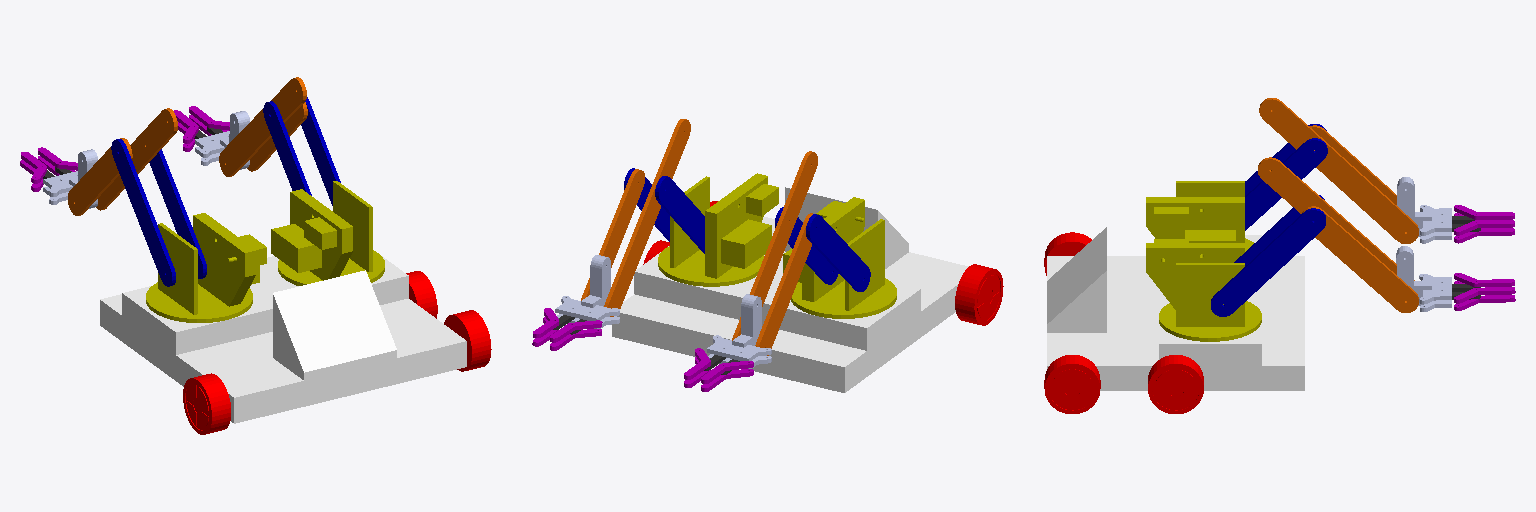
--- What the picture shows (computed from the rendered views, not written in the file) ---
The picture shows the robot from 3 angles, left to right: view 1: azimuth 30°, elevation 25°; view 2: azimuth 150°, elevation 25°; view 3: azimuth 270°, elevation 25°; orthographic projection.
Robot: little_boy_sim — 23 links, 22 joints (22 continuous); root link robot_body; default pose: every joint at zero.
Links seen in each view (by area): view 1: robot_body, shoulder_L, shoulder_R, humerus_L, ulna_L, ulna_R, humerus_R, wheel_L3, wheel_R3, palm_R, palm_L, wheel_R2 (+3 smaller); view 2: robot_body, shoulder_R, shoulder_L, ulna_L, ulna_R, humerus_L, humerus_R, wheel_L3, palm_L, palm_R, finger_outer_L, finger_inner_R (+2 smaller); view 3: robot_body, shoulder_R, ulna_R, ulna_L, shoulder_L, humerus_R, wheel_R3, wheel_R2, humerus_L, palm_L, palm_R, finger_inner_L (+2 smaller).
Boxes of the visible links, bbox=[...] form: robot_body: bbox=[100, 256, 466, 423]; shoulder_L: bbox=[146, 213, 266, 322]; shoulder_R: bbox=[271, 181, 384, 285]; humerus_L: bbox=[111, 139, 206, 286]; ulna_L: bbox=[68, 108, 177, 215]; ulna_R: bbox=[219, 77, 307, 176]; humerus_R: bbox=[263, 97, 340, 205]; wheel_L3: bbox=[183, 373, 230, 434]; wheel_R3: bbox=[444, 310, 491, 371]; palm_R: bbox=[195, 111, 249, 169]; palm_L: bbox=[43, 149, 97, 208]; wheel_R2: bbox=[406, 271, 437, 318]; robot_body: bbox=[612, 187, 968, 392]; shoulder_R: bbox=[658, 173, 778, 286]; shoulder_L: bbox=[783, 197, 896, 318]; ulna_L: bbox=[732, 151, 817, 355]; ulna_R: bbox=[581, 119, 690, 316]; humerus_L: bbox=[775, 207, 870, 291]; humerus_R: bbox=[624, 168, 704, 253]; wheel_L3: bbox=[955, 264, 1003, 325]; palm_L: bbox=[707, 294, 771, 368]; palm_R: bbox=[555, 255, 619, 328]; finger_outer_L: bbox=[701, 361, 753, 391]; finger_inner_R: bbox=[550, 320, 602, 350]; robot_body: bbox=[1047, 227, 1304, 390]; shoulder_R: bbox=[1146, 239, 1261, 341]; ulna_R: bbox=[1258, 157, 1418, 312]; ulna_L: bbox=[1259, 98, 1418, 243]; shoulder_L: bbox=[1146, 181, 1253, 251]; humerus_R: bbox=[1211, 195, 1325, 316]; wheel_R3: bbox=[1044, 355, 1100, 413]; wheel_R2: bbox=[1148, 355, 1203, 413]; humerus_L: bbox=[1245, 124, 1327, 230]; palm_L: bbox=[1397, 177, 1451, 243]; palm_R: bbox=[1396, 246, 1451, 311]; finger_inner_L: bbox=[1454, 220, 1514, 243].
Size in the robot's own frame: 0.36 by 0.5464 by 0.2826 metres.
Meshes: 23 distinct files referenced, 20 mesh visuals loaded (20 binary STL); not drawn: 3 (reference not matched to a file when rendering).

The robot description file, URDF, robot "little_boy_sim":
<?xml version="1.0" encoding="utf-8"?>
<!-- This URDF was automatically created by SolidWorks to URDF Exporter! Originally created by Stephen Brawner ([email redacted]) 
     Commit Version: 1.5.1-0-g916b5db  Build Version: 1.5.7152.31018
     For more information, please see http://wiki.ros.org/sw_urdf_exporter -->
<robot
  name="little_boy_sim">
  
  
  
  
  <link
    name="robot_body">
    <inertial>
      <origin
        xyz="7.73870656298055E-18 6.56352555085725E-05 0.0269020159399907"
        rpy="0 0 0" />
      <mass
        value="4.266" />
      <inertia
        ixx="0.0303319746647914"
        ixy="5.24144068654683E-18"
        ixz="-1.33999125947965E-18"
        iyy="0.0311586930426629"
        iyz="0.000455042564463213"
        izz="0.0584004816221285" />
    </inertial>
    <visual>
      <origin
        xyz="0 0 0"
        rpy="0 0 0" />
      <geometry>
        <mesh
          filename="package://little_boy_sim/meshes/robot_body.STL" />
      </geometry>
      <material
        name="">
        <color
          rgba="1 1 1 1" />
      </material>
    </visual>
    <collision>
      <origin
        xyz="0 0 0"
        rpy="0 0 0" />
      <geometry>
        <mesh
          filename="package://little_boy_sim/meshes/robot_body.STL" />
      </geometry>
    </collision>
  </link>
  
  
  
  
  <link
    name="shoulder_L">
    <inertial>
      <origin
        xyz="0.0176282080548916 0.0370896616143596 0.00815080609992025"
        rpy="0 0 0" />
      <mass
        value="0.283423667764616" />
      <inertia
        ixx="0.000265257278790206"
        ixy="2.10466843961759E-21"
        ixz="7.10003077447779E-09"
        iyy="0.00025941290370256"
        iyz="-1.9172409284844E-06"
        izz="0.000144352415869328" />
    </inertial>
    <visual>
      <origin
        xyz="0 0 0"
        rpy="0 0 0" />
      <geometry>
        <mesh
          filename="package://little_boy_sim/meshes/shoulder_L.STL" />
      </geometry>
      <material
        name="">
        <color
          rgba="0.752941176470588 0.752941176470588 0 1" />
      </material>
    </visual>
    <collision>
      <origin
        xyz="0 0 0"
        rpy="0 0 0" />
      <geometry>
        <mesh
          filename="package://little_boy_sim/meshes/shoulder_L.STL" />
      </geometry>
    </collision>
  </link>
  
  <joint
    name="servo_L0"
    type="continuous">
    <origin
      xyz="-0.0850000000000002 0.0399999999999997 0.06"
      rpy="1.5707963267949 0 0" />
    <parent
      link="robot_body" />
    <child
      link="shoulder_L" />
    <axis
      xyz="0 1 0" />
  </joint>
  
  
  
  
  <link
    name="humerus_L">
    <inertial>
      <origin
        xyz="-0.0749999999999894 1.05748743095546E-14 0.0125000000000634"
        rpy="0 0 0" />
      <mass
        value="0.0519272118011655" />
      <inertia
        ixx="3.88070998990834E-06"
        ixy="-3.04931861011548E-20"
        ixz="1.10240651048962E-16"
        iyy="0.000130596276371464"
        iyz="3.09890737932735E-18"
        izz="0.000134260622978868" />
    </inertial>
    <visual>
      <origin
        xyz="0 0 0"
        rpy="0 0 0" />
      <geometry>
        <mesh
          filename="package://little_boy_sim/meshes/humerus_L.STL" />
      </geometry>
      <material
        name="">
        <color
          rgba="0 0 0.752941176470588 1" />
      </material>
    </visual>
    <collision>
      <origin
        xyz="0 0 0"
        rpy="0 0 0" />
      <geometry>
        <mesh
          filename="package://little_boy_sim/meshes/humerus_L.STL" />
      </geometry>
    </collision>
  </link>
  
  <joint
    name="servo_L1"
    type="continuous">
    <origin
      xyz="0 0.035 -0.015"
      rpy="1.5708 -0.7854 -1.5708" />
    <parent
      link="shoulder_L" />
    <child
      link="humerus_L" />
    <axis
      xyz="0 0 -1" />
  </joint>
  
  
  
  
  <link
    name="ulna_L">
    <inertial>
      <origin
        xyz="0.0545874765333422 8.49320613838245E-15 0.00998412959821515"
        rpy="0 0 0" />
      <mass
        value="0.0623918688838126" />
      <inertia
        ixx="4.6899914784395E-06"
        ixy="-3.58294936688569E-19"
        ixz="-2.07386312172505E-16"
        iyy="0.00024547580253465"
        iyz="3.74503626028023E-18"
        izz="0.000249905827892741" />
    </inertial>
    <visual>
      <origin
        xyz="0 0 0"
        rpy="0 0 0" />
      <geometry>
        <mesh
          filename="package://little_boy_sim/meshes/ulna_L.STL" />
      </geometry>
      <material
        name="">
        <color
          rgba="0.909803921568627 0.443137254901961 0.0313725490196078 1" />
      </material>
    </visual>
    <collision>
      <origin
        xyz="0 0 0"
        rpy="0 0 0" />
      <geometry>
        <mesh
          filename="package://little_boy_sim/meshes/ulna_L.STL" />
      </geometry>
    </collision>
  </link>
  
  <joint
    name="elbow_L"
    type="continuous">
    <origin
      xyz="-0.15 0 0"
      rpy="0 0 -1.5708" />
    <parent
      link="humerus_L" />
    <child
      link="ulna_L" />
    <axis
      xyz="0 0 -1" />
  </joint>
  
  
  
  
  <link
    name="palm_L">
    <inertial>
      <origin
        xyz="0.0124999999981679 0.0120255662044685 0.0177078963676909"
        rpy="0 0 0" />
      <mass
        value="0.0457141016063151" />
      <inertia
        ixx="1.44625861769414E-05"
        ixy="2.33132442790196E-18"
        ixz="3.04469794115004E-18"
        iyy="1.14249586142426E-05"
        iyz="1.96430007002868E-06"
        izz="1.69837601342722E-05" />
    </inertial>
    <visual>
      <origin
        xyz="0 0 0"
        rpy="0 0 0" />
      <geometry>
        <mesh
          filename="package://little_boy_sim/meshes/palm_L.STL" />
      </geometry>
      <material
        name="">
        <color
          rgba="0.792156862745098 0.819607843137255 0.933333333333333 1" />
      </material>
    </visual>
    <collision>
      <origin
        xyz="0 0 0"
        rpy="0 0 0" />
      <geometry>
        <mesh
          filename="package://little_boy_sim/meshes/palm_L.STL" />
      </geometry>
    </collision>
  </link>
  
  <joint
    name="wrist_L"
    type="continuous">
    <origin
      xyz="0.15 0 0"
      rpy="2.3514 -1.5708 0" />
    <parent
      link="ulna_L" />
    <child
      link="palm_L" />
    <axis
      xyz="-1 0 0" />
  </joint>
  
  
  
  
  <link
    name="carpal_outer_L">
    <inertial>
      <origin
        xyz="-2.77555756156289E-17 -0.00250000000000006 -0.02"
        rpy="0 0 0" />
      <mass
        value="0.00236128315516283" />
      <inertia
        ixx="4.51879117250704E-07"
        ixy="1.86922169213929E-24"
        ixz="1.5034575613003E-22"
        iyy="4.66072959289765E-07"
        iyz="-9.13614524216283E-22"
        izz="2.4032521852239E-08" />
    </inertial>
    <visual>
      <origin
        xyz="0 0 0"
        rpy="0 0 0" />
      <geometry>
        <mesh
          filename="package://little_boy_sim/meshes/carpal_outer_L.STL" />
      </geometry>
      <material
        name="">
        <color
          rgba="0.250980392156863 0.250980392156863 0.250980392156863 1" />
      </material>
    </visual>
    <collision>
      <origin
        xyz="0 0 0"
        rpy="0 0 0" />
      <geometry>
        <mesh
          filename="package://little_boy_sim/meshes/carpal_outer_L.STL" />
      </geometry>
    </collision>
  </link>
  
  <joint
    name="servo_L3_outer"
    type="continuous">
    <origin
      xyz="0.0235 0 0.0418"
      rpy="3.1416 1.0036E-05 0" />
    <parent
      link="palm_L" />
    <child
      link="carpal_outer_L" />
    <axis
      xyz="0 1 0" />
  </joint>
  
  
  
  
  <link
    name="finger_outer_L">
    <inertial>
      <origin
        xyz="0.00511306770477256 -0.00249999999999999 -0.00728422296122805"
        rpy="0 0 0" />
      <mass
        value="0.00771718769015707" />
      <inertia
        ixx="3.08987109886686E-06"
        ixy="-4.29058583731255E-21"
        ixz="-9.12550467894094E-07"
        iyy="3.56022426581632E-06"
        iyz="-1.09051356055928E-20"
        izz="5.0250811565844E-07" />
    </inertial>
    <visual>
      <origin
        xyz="0 0 0"
        rpy="0 0 0" />
      <geometry>
        <mesh
          filename="package://little_boy_sim/meshes/finger_outer_L.STL" />
      </geometry>
      <material
        name="">
        <color
          rgba="0.752941176470588 0 0.752941176470588 1" />
      </material>
    </visual>
    <collision>
      <origin
        xyz="0 0 0"
        rpy="0 0 0" />
      <geometry>
        <mesh
          filename="package://little_boy_sim/meshes/finger_outer_L.STL" />
      </geometry>
    </collision>
  </link>
  
  <joint
    name="finger_outer_joint_L"
    type="continuous">
    <origin
      xyz="0 0 -0.04"
      rpy="0 1.0036E-05 0" />
    <parent
      link="carpal_outer_L" />
    <child
      link="finger_outer_L" />
    <axis
      xyz="0 1 0" />
    <mimic
      joint="servo_L3_outer"
      multiplier="-1"
      offset="0" />
  </joint>
  
  
  
  
  <link
    name="carpal_inner_L">
    <inertial>
      <origin
        xyz="-5.72875080706581E-14 0.00250000000000004 -0.02"
        rpy="0 0 0" />
      <mass
        value="0.00236128315516282" />
      <inertia
        ixx="4.51879117250703E-07"
        ixy="-8.14507915427165E-23"
        ixz="-1.22524661790364E-18"
        iyy="4.66072959289764E-07"
        iyz="8.94330876186141E-22"
        izz="2.40325218522389E-08" />
    </inertial>
    <visual>
      <origin
        xyz="0 0 0"
        rpy="0 0 0" />
      <geometry>
        <mesh
          filename="package://little_boy_sim/meshes/carpal_inner_L.STL" />
      </geometry>
      <material
        name="">
        <color
          rgba="0.250980392156863 0.250980392156863 0.250980392156863 1" />
      </material>
    </visual>
    <collision>
      <origin
        xyz="0 0 0"
        rpy="0 0 0" />
      <geometry>
        <mesh
          filename="package://little_boy_sim/meshes/carpal_inner_L.STL" />
      </geometry>
    </collision>
  </link>
  
  <joint
    name="servo_L3_inner"
    type="continuous">
    <origin
      xyz="0.0015 0 0.0418"
      rpy="3.1416 0 3.1416" />
    <parent
      link="palm_L" />
    <child
      link="carpal_inner_L" />
    <axis
      xyz="0 1 0" />
    <mimic
      joint="servo_L3_outer"
      multiplier="1"
      offset="0" />
  </joint>
  
  
  
  
  <link
    name="finger_inner_L">
    <inertial>
      <origin
        xyz="0.00511306770475504 0.00250000000000004 -0.00728422296124015"
        rpy="0 0 0" />
      <mass
        value="0.00771718769015706" />
      <inertia
        ixx="3.08987109886248E-06"
        ixy="-9.3719563402258E-22"
        ixz="-9.12550467900302E-07"
        iyy="3.56022426581631E-06"
        iyz="8.49721284245098E-22"
        izz="5.02508115662819E-07" />
    </inertial>
    <visual>
      <origin
        xyz="0 0 0"
        rpy="0 0 0" />
      <geometry>
        <mesh
          filename="package://little_boy_sim/meshes/finger_inner_L.STL" />
      </geometry>
      <material
        name="">
        <color
          rgba="0.752941176470588 0 0.752941176470588 1" />
      </material>
    </visual>
    <collision>
      <origin
        xyz="0 0 0"
        rpy="0 0 0" />
      <geometry>
        <mesh
          filename="package://little_boy_sim/meshes/finger_inner_L.STL" />
      </geometry>
    </collision>
  </link>
  
  <joint
    name="finger_inner_joint_L"
    type="continuous">
    <origin
      xyz="0 0 -0.04"
      rpy="0 0 0" />
    <parent
      link="carpal_inner_L" />
    <child
      link="finger_inner_L" />
    <axis
      xyz="0 1 0" />
    <mimic
      joint="servo_L3_outer"
      multiplier="-1"
      offset="0" />
  </joint>
  
  
  
  
  <link
    name="shoulder_R">
    <inertial>
      <origin
        xyz="-0.0176282080548916 0.0370896616143596 0.00815080609992024"
        rpy="0 0 0" />
      <mass
        value="0.283423667764616" />
      <inertia
        ixx="0.000265257278790206"
        ixy="-1.18994555132178E-21"
        ixz="-7.10003077447386E-09"
        iyy="0.000259412903702561"
        iyz="-1.91724092848441E-06"
        izz="0.000144352415869328" />
    </inertial>
    <visual>
      <origin
        xyz="0 0 0"
        rpy="0 0 0" />
      <geometry>
        <mesh
          filename="package://little_boy_sim/meshes/shoulder_R.STL" />
      </geometry>
      <material
        name="">
        <color
          rgba="0.752941176470588 0.752941176470588 0 1" />
      </material>
    </visual>
    <collision>
      <origin
        xyz="0 0 0"
        rpy="0 0 0" />
      <geometry>
        <mesh
          filename="package://little_boy_sim/meshes/shoulder_R.STL" />
      </geometry>
    </collision>
  </link>
  
  <joint
    name="servo_R0"
    type="continuous">
    <origin
      xyz="0.085 0.04 0.06"
      rpy="1.5708 0 0" />
    <parent
      link="robot_body" />
    <child
      link="shoulder_R" />
    <axis
      xyz="0 1 0" />
  </joint>
  
  
  
  
  <link
    name="humerus_R">
    <inertial>
      <origin
        xyz="-0.075 1.38777878078145E-17 -0.0125"
        rpy="0 0 0" />
      <mass
        value="0.0519272118011655" />
      <inertia
        ixx="3.88070998990836E-06"
        ixy="-2.11758236813575E-22"
        ixz="7.82529906022303E-22"
        iyy="0.000130596276371464"
        iyz="-1.15008020717053E-22"
        izz="0.000134260622978868" />
    </inertial>
    <visual>
      <origin
        xyz="0 0 0"
        rpy="0 0 0" />
      <geometry>
        <mesh
          filename="package://little_boy_sim/meshes/humerus_R.STL" />
      </geometry>
      <material
        name="">
        <color
          rgba="0 0 0.752941176470588 1" />
      </material>
    </visual>
    <collision>
      <origin
        xyz="0 0 0"
        rpy="0 0 0" />
      <geometry>
        <mesh
          filename="package://little_boy_sim/meshes/humerus_R.STL" />
      </geometry>
    </collision>
  </link>
  
  <joint
    name="servo_R1"
    type="continuous">
    <origin
      xyz="0 0.035 -0.015"
      rpy="1.5707963267949 -0.773478876126905 -1.5707963267949" />
    <parent
      link="shoulder_R" />
    <child
      link="humerus_R" />
    <axis
      xyz="0 0 -1" />
  </joint>
  
  
  
  
  <link
    name="ulna_R">
    <inertial>
      <origin
        xyz="0.0545874765333507 -5.55111512312578E-17 0.00998412959816891"
        rpy="0 0 0" />
      <mass
        value="0.0623918688838126" />
      <inertia
        ixx="4.68999147843948E-06"
        ixy="1.94605819631676E-19"
        ixz="-7.48643693300273E-22"
        iyy="0.00024547580253465"
        iyz="8.61256928243796E-23"
        izz="0.000249905827892741" />
    </inertial>
    <visual>
      <origin
        xyz="0 0 0"
        rpy="0 0 0" />
      <geometry>
        <mesh
          filename="package://little_boy_sim/meshes/ulna_R.STL" />
      </geometry>
      <material
        name="">
        <color
          rgba="0.909803921568627 0.443137254901961 0.0313725490196078 1" />
      </material>
    </visual>
    <collision>
      <origin
        xyz="0 0 0"
        rpy="0 0 0" />
      <geometry>
        <mesh
          filename="package://little_boy_sim/meshes/ulna_R.STL" />
      </geometry>
    </collision>
  </link>
  
  <joint
    name="elbow_R"
    type="continuous">
    <origin
      xyz="-0.15 0 0"
      rpy="3.14159265358979 0 -1.57079632679489" />
    <parent
      link="humerus_R" />
    <child
      link="ulna_R" />
    <axis
      xyz="0 0 1" />
  </joint>
  
  
  
  
  <link
    name="palm_R">
    <inertial>
      <origin
        xyz="-0.0125000000000034 0.0120255662044686 0.0177078963677058"
        rpy="0 0 0" />
      <mass
        value="0.045714101606315" />
      <inertia
        ixx="1.44625861769414E-05"
        ixy="-4.2505766661361E-22"
        ixz="1.65841161362959E-20"
        iyy="1.14249586142426E-05"
        iyz="1.96430007002868E-06"
        izz="1.69837601342722E-05" />
    </inertial>
    <visual>
      <origin
        xyz="0 0 0"
        rpy="0 0 0" />
      <geometry>
        <mesh
          filename="package://little_boy_sim/meshes/palm_R.STL" />
      </geometry>
      <material
        name="">
        <color
          rgba="0.792156862745098 0.819607843137255 0.933333333333333 1" />
      </material>
    </visual>
    <collision>
      <origin
        xyz="0 0 0"
        rpy="0 0 0" />
      <geometry>
        <mesh
          filename="package://little_boy_sim/meshes/palm_R.STL" />
      </geometry>
    </collision>
  </link>
  
  <joint
    name="wrist_R"
    type="continuous">
    <origin
      xyz="0.15 0 0"
      rpy="-0.802 1.5707963267949 0" />
    <parent
      link="ulna_R" />
    <child
      link="palm_R" />
    <axis
      xyz="-1 0 0" />
  </joint>
  
  
  
  
  <link
    name="carpal_outer_R">
    <inertial>
      <origin
        xyz="1.46313516857788E-13 0.00249999999999413 -0.0200000000000015"
        rpy="0 0 0" />
      <mass
        value="0.00236128315516283" />
      <inertia
        ixx="4.51879117250703E-07"
        ixy="-1.88263741598242E-24"
        ixz="3.10786858147573E-18"
        iyy="4.66072959289764E-07"
        iyz="1.71510730134042E-23"
        izz="2.4032521852239E-08" />
    </inertial>
    <visual>
      <origin
        xyz="0 0 0"
        rpy="0 0 0" />
      <geometry>
        <mesh
          filename="package://little_boy_sim/meshes/carpal_outer_R.STL" />
      </geometry>
      <material
        name="">
        <color
          rgba="0.250980392156863 0.250980392156863 0.250980392156863 1" />
      </material>
    </visual>
    <collision>
      <origin
        xyz="0 0 0"
        rpy="0 0 0" />
      <geometry>
        <mesh
          filename="package://little_boy_sim/meshes/carpal_outer_R.STL" />
      </geometry>
    </collision>
  </link>
  
  <joint
    name="servo_R3_outer"
    type="continuous">
    <origin
      xyz="-0.0235 0 0.0418"
      rpy="3.1416 0 3.1416" />
    <parent
      link="palm_R" />
    <child
      link="carpal_outer_R" />
    <axis
      xyz="0 1 0" />
  </joint>
  
  
  
  
  <link
    name="finger_outer_R">
    <inertial>
      <origin
        xyz="0.00511306770476268 0.00249999999999997 -0.00728422296123232"
        rpy="0 0 0" />
      <mass
        value="0.00771718769015706" />
      <inertia
        ixx="3.08987109886467E-06"
        ixy="2.00260426299088E-21"
        ixz="-9.12550467897191E-07"
        iyy="3.5602242658163E-06"
        iyz="6.72497838005611E-21"
        izz="5.02508115660626E-07" />
    </inertial>
    <visual>
      <origin
        xyz="0 0 0"
        rpy="0 0 0" />
      <geometry>
        <mesh
          filename="package://little_boy_sim/meshes/finger_outer_R.STL" />
      </geometry>
      <material
        name="">
        <color
          rgba="0.752941176470588 0 0.752941176470588 1" />
      </material>
    </visual>
    <collision>
      <origin
        xyz="0 0 0"
        rpy="0 0 0" />
      <geometry>
        <mesh
          filename="package://little_boy_sim/meshes/finger_outer_R.STL" />
      </geometry>
    </collision>
  </link>
  
  <joint
    name="finger_outer_joint_R"
    type="continuous">
    <origin
      xyz="0 0 -0.0400000000000017"
      rpy="0 0 0" />
    <parent
      link="carpal_outer_R" />
    <child
      link="finger_outer_R" />
    <axis
      xyz="0 1 0" />
    <mimic
      joint="servo_R3_outer"
      multiplier="-1"
      offset="0" />
  </joint>
  
  
  
  
  <link
    name="carpal_inner_R">
    <inertial>
      <origin
        xyz="-9.99200722162641E-16 -0.00249999999999446 -0.0200000000000016"
        rpy="0 0 0" />
      <mass
        value="0.00236128315516282" />
      <inertia
        ixx="4.51879117250703E-07"
        ixy="-2.9121904721501E-24"
        ixz="-6.67803951536478E-23"
        iyy="4.66072959289763E-07"
        iyz="5.32497519331012E-24"
        izz="2.40325218522389E-08" />
    </inertial>
    <visual>
      <origin
        xyz="0 0 0"
        rpy="0 0 0" />
      <geometry>
        <mesh
          filename="package://little_boy_sim/meshes/carpal_inner_R.STL" />
      </geometry>
      <material
        name="">
        <color
          rgba="0.250980392156863 0.250980392156863 0.250980392156863 1" />
      </material>
    </visual>
    <collision>
      <origin
        xyz="0 0 0"
        rpy="0 0 0" />
      <geometry>
        <mesh
          filename="package://little_boy_sim/meshes/carpal_inner_R.STL" />
      </geometry>
    </collision>
  </link>
  
  <joint
    name="servo_R3_inner"
    type="continuous">
    <origin
      xyz="-0.00150000000000346 0 0.0418000000000001"
      rpy="-3.14159265358978 4.86241093239498E-05 0" />
    <parent
      link="palm_R" />
    <child
      link="carpal_inner_R" />
    <axis
      xyz="0 1 0" />
    <mimic
      joint="servo_R3_outer"
      multiplier="1"
      offset="0" />
  </joint>
  
  
  
  
  <link
    name="finger_inner_R">
    <inertial>
      <origin
        xyz="0.0051130677047645 -0.00249999999999825 -0.00728422296123293"
        rpy="0 0 0" />
      <mass
        value="0.00771718769015705" />
      <inertia
        ixx="3.08987109886467E-06"
        ixy="-1.10015021469553E-21"
        ixz="-9.12550467897194E-07"
        iyy="3.5602242658163E-06"
        iyz="-3.8248831524452E-21"
        izz="5.02508115660627E-07" />
    </inertial>
    <visual>
      <origin
        xyz="0 0 0"
        rpy="0 0 0" />
      <geometry>
        <mesh
          filename="package://little_boy_sim/meshes/finger_inner_R.STL" />
      </geometry>
      <material
        name="">
        <color
          rgba="0.752941176470588 0 0.752941176470588 1" />
      </material>
    </visual>
    <collision>
      <origin
        xyz="0 0 0"
        rpy="0 0 0" />
      <geometry>
        <mesh
          filename="package://little_boy_sim/meshes/finger_inner_R.STL" />
      </geometry>
    </collision>
  </link>
  
  <joint
    name="finger_inner_joint_R"
    type="continuous">
    <origin
      xyz="0 0 -0.0400000000000016"
      rpy="0 4.86241093239498E-05 0" />
    <parent
      link="carpal_inner_R" />
    <child
      link="finger_inner_R" />
    <axis
      xyz="0 1 0" />
    <mimic
      joint="servo_R3_outer"
      multiplier="-1"
      offset="0" />
  </joint>
  
  
  
  
  <link
    name="wheel_L1">
    <inertial>
      <origin
        xyz="0 0.0172695781169907 -1.38777878078145E-17"
        rpy="0 0 0" />
      <mass
        value="0.082261679681697" />
      <inertia
        ixx="2.59481111948719E-05"
        ixy="1.08436657728232E-21"
        ixz="2.58493941422821E-22"
        iyy="4.33989088629492E-05"
        iyz="3.71855063805022E-22"
        izz="2.59481111948719E-05" />
    </inertial>
    <visual>
      <origin
        xyz="0 0 0"
        rpy="0 0 0" />
      <geometry>
        <mesh
          filename="package://little_boy_sim/meshes/wheel_L1.STL" />
      </geometry>
      <material
        name="">
        <color
          rgba="1 0 0 1" />
      </material>
    </visual>
    <collision>
      <origin
        xyz="0 0 0"
        rpy="0 0 0" />
      <geometry>
        <mesh
          filename="package://little_boy_sim/meshes/wheel_L1.STL" />
      </geometry>
    </collision>
  </link>
  
  <joint
    name="motor_L1"
    type="continuous">
    <origin
      xyz="-0.15 0.12 0.0162"
      rpy="1.5708 -1.5708 0" />
    <parent
      link="robot_body" />
    <child
      link="wheel_L1" />
    <axis
      xyz="0 1 0" />
  </joint>
  
  
  
  
  <link
    name="wheel_L2">
    <inertial>
      <origin
        xyz="0 0.0172695781169906 -2.81553418810606E-19"
        rpy="0 0 0" />
      <mass
        value="0.082261679681697" />
      <inertia
        ixx="2.59481111948719E-05"
        ixy="-1.64633806974664E-22"
        ixz="5.68686671130207E-22"
        iyy="4.33989088629492E-05"
        iyz="6.71217207506519E-22"
        izz="2.59481111948719E-05" />
    </inertial>
    <visual>
      <origin
        xyz="0 0 0"
        rpy="0 0 0" />
      <geometry>
        <mesh
          filename="package://little_boy_sim/meshes/wheel_L2.STL" />
      </geometry>
      <material
        name="">
        <color
          rgba="1 0 0 1" />
      </material>
    </visual>
    <collision>
      <origin
        xyz="0 0 0"
        rpy="0 0 0" />
      <geometry>
        <mesh
          filename="package://little_boy_sim/meshes/wheel_L2.STL" />
      </geometry>
    </collision>
  </link>
  
  <joint
    name="motor_L2"
    type="continuous">
    <origin
      xyz="-0.15 0 0.0162"
      rpy="1.5708 -1.5708 0" />
    <parent
      link="robot_body" />
    <child
      link="wheel_L2" />
    <axis
      xyz="0 1 0" />
    <mimic
      joint="motor_L1"
      multiplier="1"
      offset="0" />
  </joint>
  
  
  
  
  <link
    name="wheel_L3">
    <inertial>
      <origin
        xyz="3.46944695195361E-18 0.0172695781169907 0"
        rpy="0 0 0" />
      <mass
        value="0.082261679681697" />
      <inertia
        ixx="2.59481111948719E-05"
        ixy="4.26103692100804E-25"
        ixz="-1.55096364853689E-22"
        iyy="4.33989088629492E-05"
        iyz="-1.88337849847828E-22"
        izz="2.59481111948719E-05" />
    </inertial>
    <visual>
      <origin
        xyz="0 0 0"
        rpy="0 0 0" />
      <geometry>
        <mesh
          filename="package://little_boy_sim/meshes/wheel_L3.STL" />
      </geometry>
      <material
        name="">
        <color
          rgba="1 0 0 1" />
      </material>
    </visual>
    <collision>
      <origin
        xyz="0 0 0"
        rpy="0 0 0" />
      <geometry>
        <mesh
          filename="package://little_boy_sim/meshes/wheel_L3.STL" />
      </geometry>
    </collision>
  </link>
  
  <joint
    name="motor_L3"
    type="continuous">
    <origin
      xyz="-0.15 -0.12 0.0162"
      rpy="1.5708 -1.5708 0" />
    <parent
      link="robot_body" />
    <child
      link="wheel_L3" />
    <axis
      xyz="0 1 0" />
    <mimic
      joint="motor_L1"
      multiplier="1"
      offset="0" />
  </joint>
  
  
  
  
  <link
    name="wheel_R1">
    <inertial>
      <origin
        xyz="0 0.0172695781169907 0"
        rpy="0 0 0" />
      <mass
        value="0.082261679681697" />
      <inertia
        ixx="2.59481111948719E-05"
        ixy="-7.78153829551795E-22"
        ixz="-1.76502894377771E-22"
        iyy="4.33989088629492E-05"
        iyz="-3.39009326192678E-21"
        izz="2.59481111948719E-05" />
    </inertial>
    <visual>
      <origin
        xyz="0 0 0"
        rpy="0 0 0" />
      <geometry>
        <mesh
          filename="package://little_boy_sim/meshes/wheel_R1.STL" />
      </geometry>
      <material
        name="">
        <color
          rgba="1 0 0 1" />
      </material>
    </visual>
    <collision>
      <origin
        xyz="0 0 0"
        rpy="0 0 0" />
      <geometry>
        <mesh
          filename="package://little_boy_sim/meshes/wheel_R1.STL" />
      </geometry>
    </collision>
  </link>
  
  <joint
    name="motor_R1"
    type="continuous">
    <origin
      xyz="0.15 0.12 0.016"
      rpy="1.5708 1.5708 0" />
    <parent
      link="robot_body" />
    <child
      link="wheel_R1" />
    <axis
      xyz="0 -1 0" />
  </joint>
  
  
  
  
  <link
    name="wheel_R2">
    <inertial>
      <origin
        xyz="0 0.0172695781169907 1.07703381086173E-17"
        rpy="0 0 0" />
      <mass
        value="0.082261679681697" />
      <inertia
        ixx="2.59481111948719E-05"
        ixy="-1.8968223393661E-21"
        ixz="3.36042123849668E-22"
        iyy="4.33989088629492E-05"
        iyz="-3.80982448472854E-21"
        izz="2.59481111948719E-05" />
    </inertial>
    <visual>
      <origin
        xyz="0 0 0"
        rpy="0 0 0" />
      <geometry>
        <mesh
          filename="package://little_boy_sim/meshes/wheel_R2.STL" />
      </geometry>
      <material
        name="">
        <color
          rgba="1 0 0 1" />
      </material>
    </visual>
    <collision>
      <origin
        xyz="0 0 0"
        rpy="0 0 0" />
      <geometry>
        <mesh
          filename="package://little_boy_sim/meshes/wheel_R2.STL" />
      </geometry>
    </collision>
  </link>
  
  <joint
    name="motor_R2"
    type="continuous">
    <origin
      xyz="0.15 0 0.016"
      rpy="1.5708 1.5708 0" />
    <parent
      link="robot_body" />
    <child
      link="wheel_R2" />
    <axis
      xyz="0 -1 0" />
    <mimic
      joint="motor_R1"
      multiplier="1"
      offset="0" />
  </joint>
  
  
  
  
  <link
    name="wheel_R3">
    <inertial>
      <origin
        xyz="0 0.0172695781169906 0"
        rpy="0 0 0" />
      <mass
        value="0.082261679681697" />
      <inertia
        ixx="2.59481111948719E-05"
        ixy="1.01688968865096E-21"
        ixz="2.11853960351258E-21"
        iyy="4.33989088629492E-05"
        iyz="-4.75511548327406E-21"
        izz="2.59481111948719E-05" />
    </inertial>
    <visual>
      <origin
        xyz="0 0 0"
        rpy="0 0 0" />
      <geometry>
        <mesh
          filename="package://little_boy_sim/meshes/wheel_R3.STL" />
      </geometry>
      <material
        name="">
        <color
          rgba="1 0 0 1" />
      </material>
    </visual>
    <collision>
      <origin
        xyz="0 0 0"
        rpy="0 0 0" />
      <geometry>
        <mesh
          filename="package://little_boy_sim/meshes/wheel_R3.STL" />
      </geometry>
    </collision>
  </link>
  
  <joint
    name="motor_R3"
    type="continuous">
    <origin
      xyz="0.15 -0.12 0.016"
      rpy="1.5707963267949 1.5707963267949 0" />
    <parent
      link="robot_body" />
    <child
      link="wheel_R3" />
    <axis
      xyz="0 -1 0" />
    <mimic
      joint="motor_R1"
      multiplier="1"
      offset="0" />
  </joint>
</robot>
